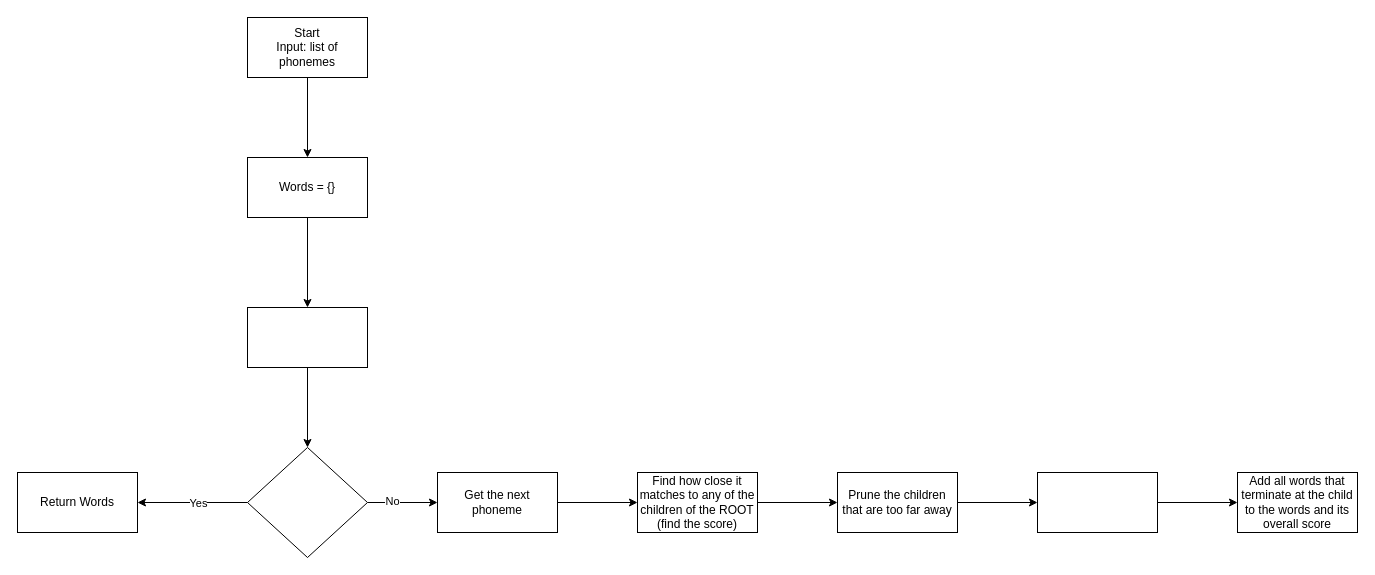
Some shapes in this 1375 by 575 pixel diagram are drawn without their labels. Here are the shapes that lost their labels. From the top down, the box of each, then its label:
(246, 306, 368, 368): Current node = ROOT
(246, 446, 368, 558): Reached the end of the list of phonemes?
(1036, 472, 1158, 532): For each unpruned child:
